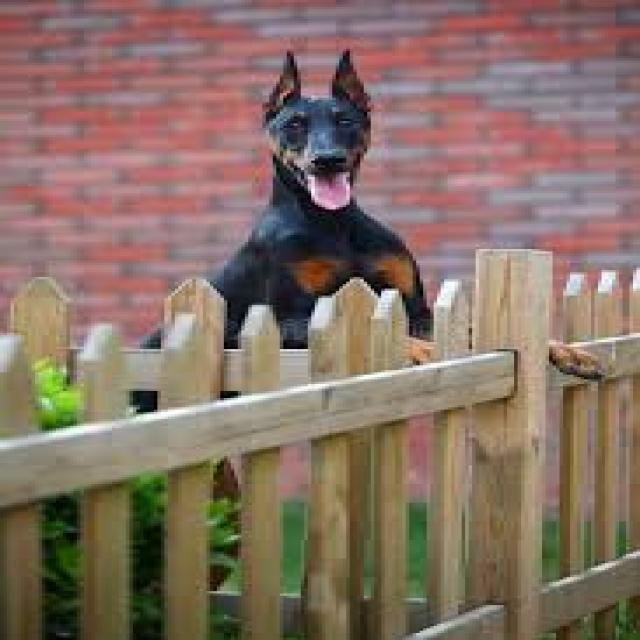Dog: (131, 41, 613, 390)
